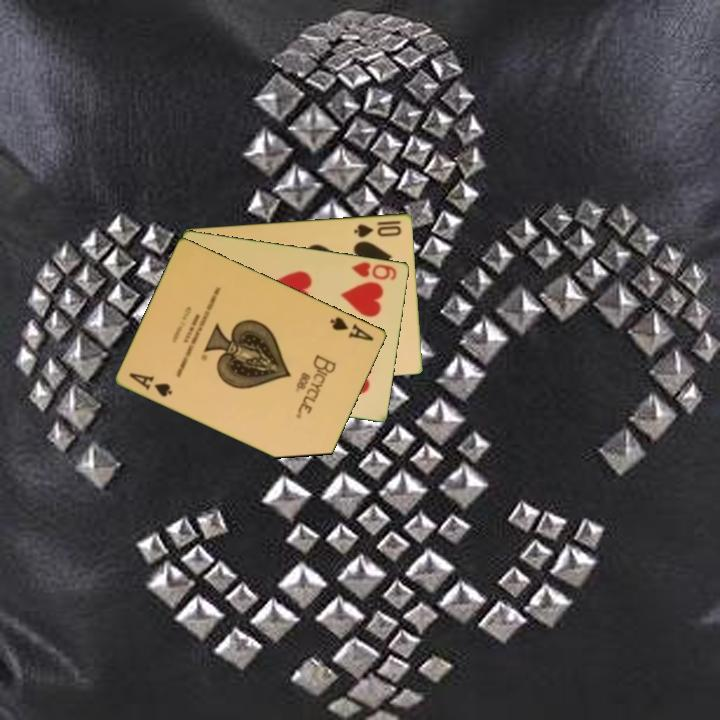10s: (351, 217, 405, 240)
6h: (348, 258, 400, 283)
As: (327, 313, 377, 344), (126, 369, 176, 400)
